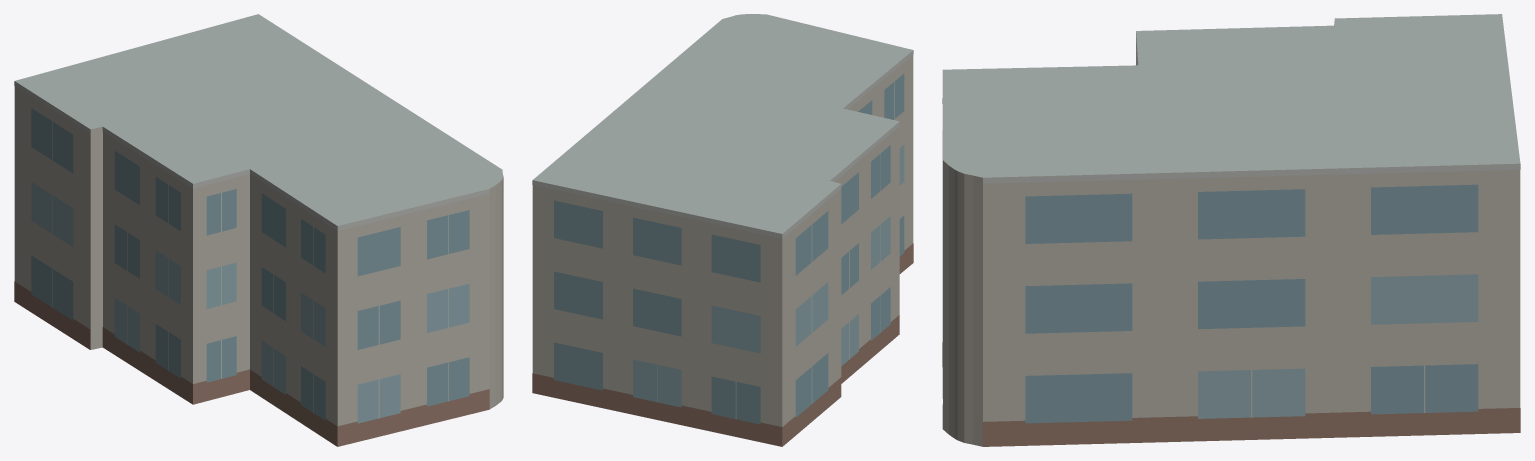
The model's file is survey-upis-32879083.glb.
The picture shows the model from 3 angles, left to right: view 1: azimuth 30°, elevation 25°; view 2: azimuth 150°, elevation 25°; view 3: azimuth 270°, elevation 25°; orthographic projection. The views are drawn at different scales.
Parts seen in each view (by area): view 1: survey-upis-32879083.tmp; view 2: survey-upis-32879083.tmp; view 3: survey-upis-32879083.tmp.
Boxes of the visible parts, left/top/right/bottom form: survey-upis-32879083.tmp: left=14, top=14, right=503, bottom=446; survey-upis-32879083.tmp: left=532, top=14, right=913, bottom=446; survey-upis-32879083.tmp: left=942, top=14, right=1520, bottom=446.
Bounding box in the file's own units: 14.29 × 10.95 × 21.32.
